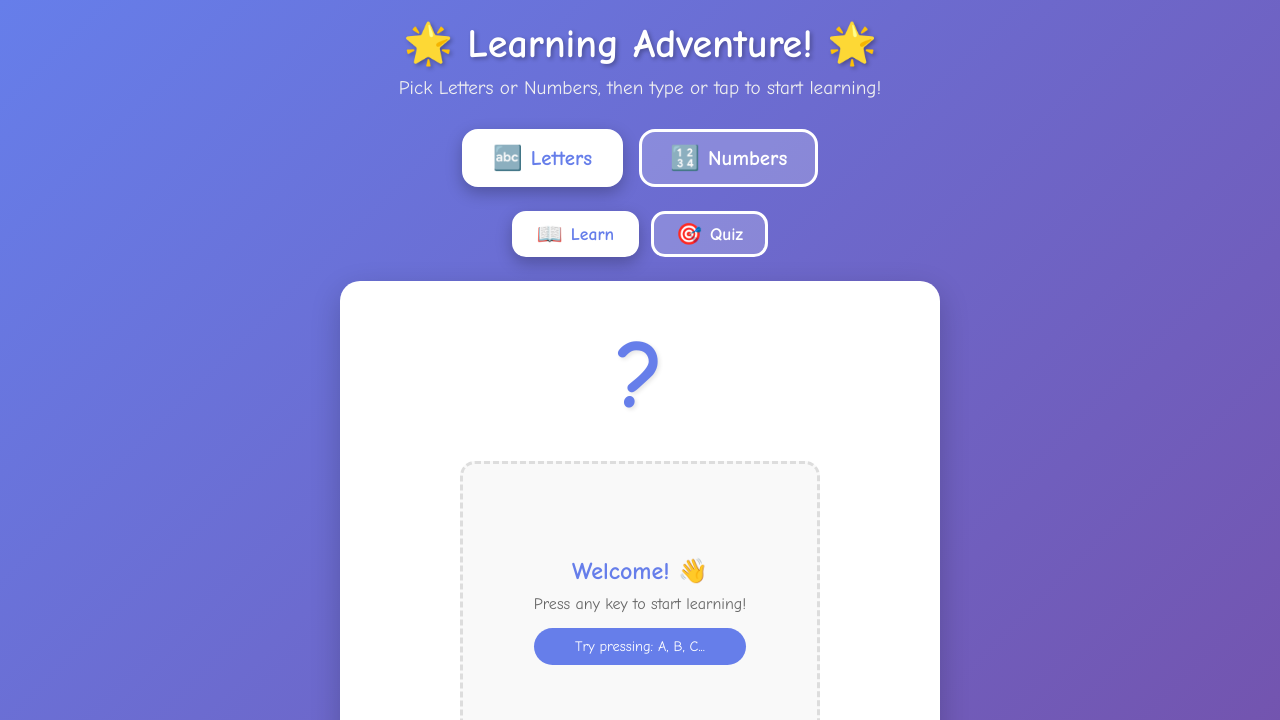
Test: Alphabet Learning App › Next Letter Functionality › next letter button selects unlearned letter
Learn letter A
Press A
(page scrolled)
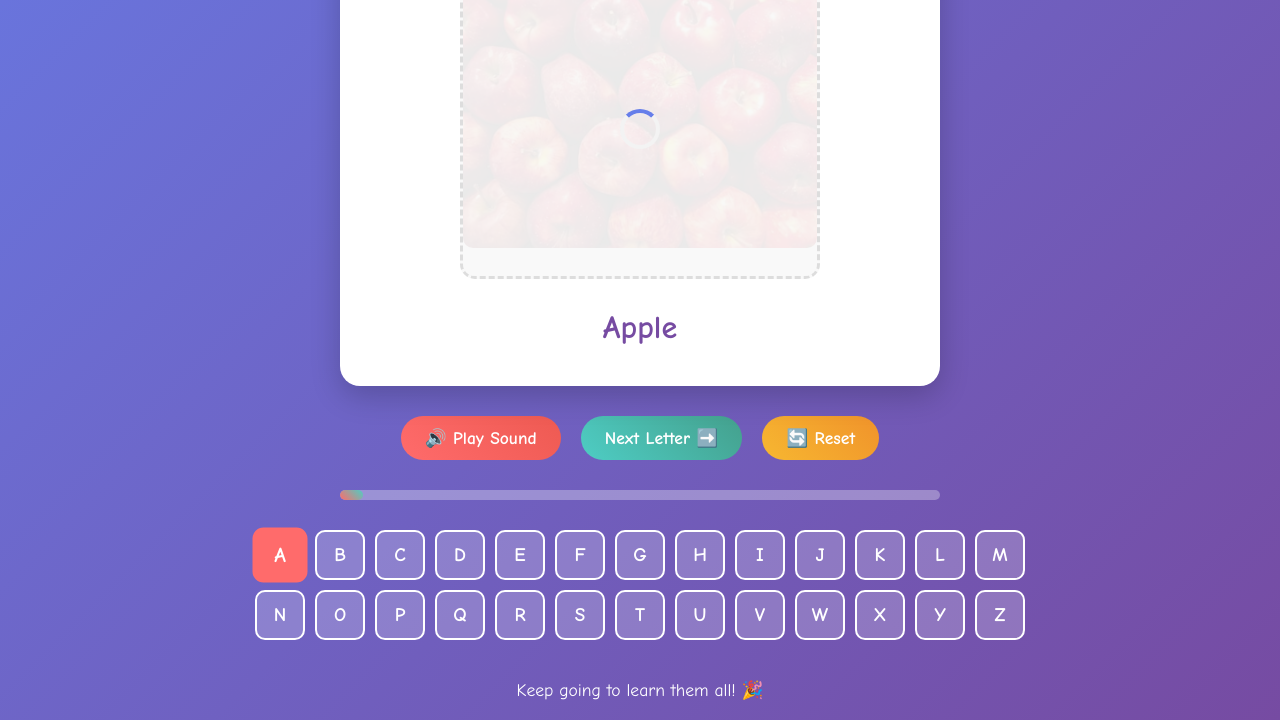
Expected: the text "Apple" is shown, [603, 309, 677, 346]
Click next letter
Click the button "Next Letter ➡️": [661, 438] box [581, 416, 742, 460]
(page scrolled)
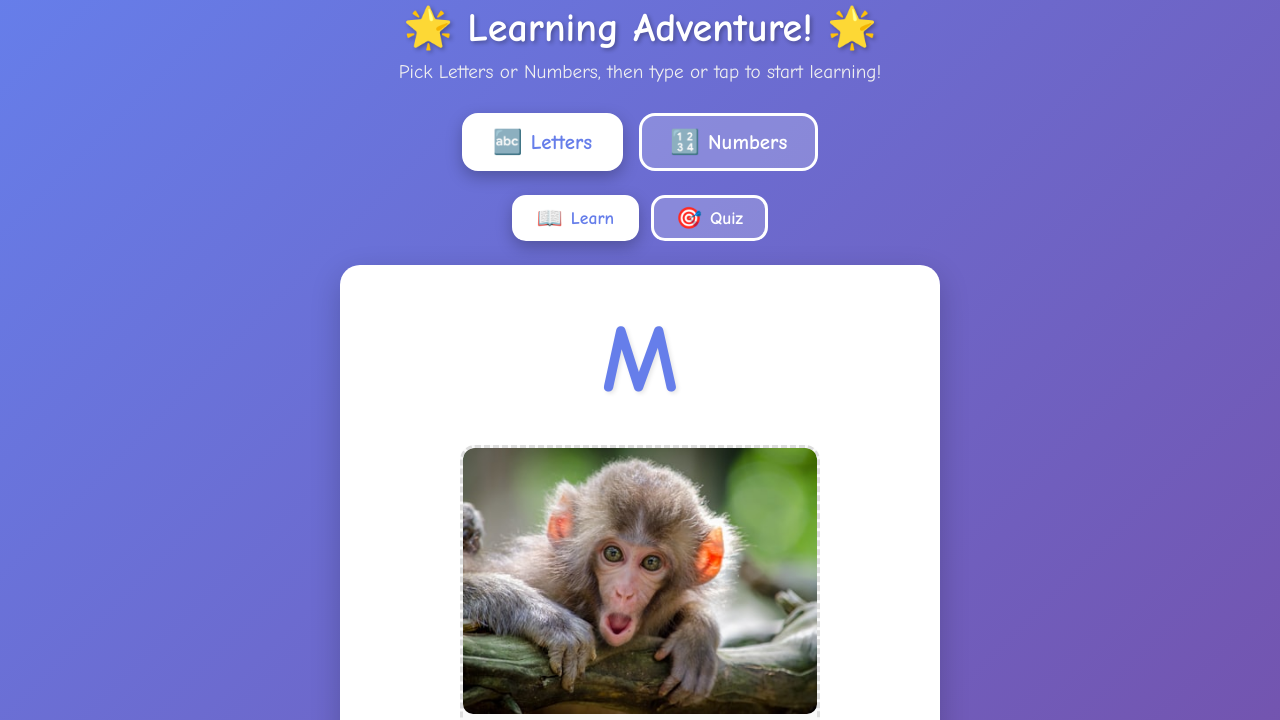
Expected: the text with test id "letter-display" reads "M", [601, 305, 679, 415]
